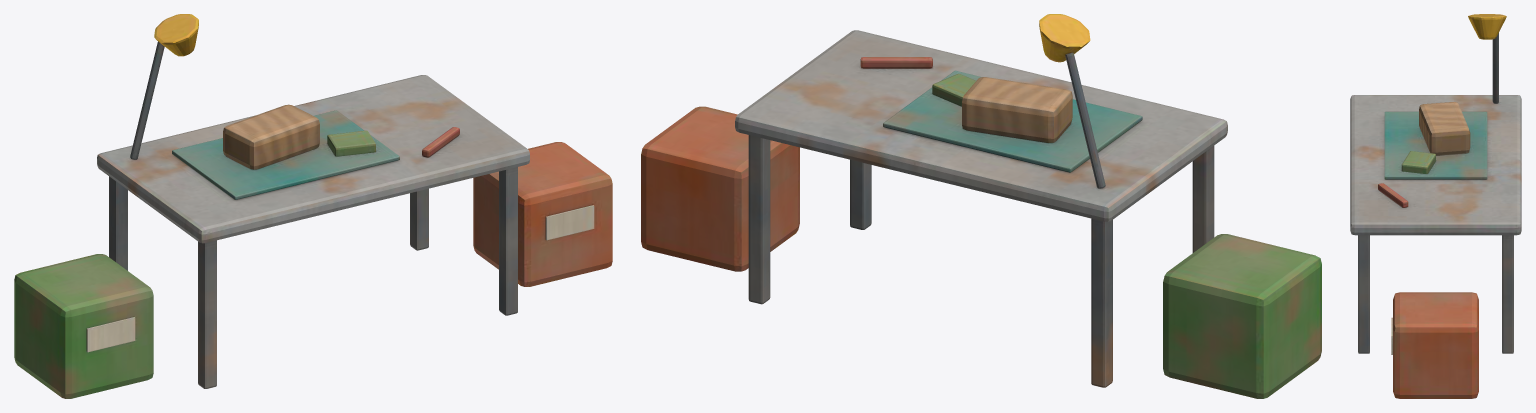
Rendered from dismantle_table.glb.
3 renders of one model, left to right at view 1: azimuth 30°, elevation 25°; view 2: azimuth 150°, elevation 25°; view 3: azimuth 270°, elevation 25°, orthographic. The views are drawn at different scales.
Visible parts, largest first — view 1: DismantleTable_Mesh; view 2: DismantleTable_Mesh; view 3: DismantleTable_Mesh.
Part boxes in pixels (x1,y1,x2,y2): DismantleTable_Mesh: (14,14,612,398); DismantleTable_Mesh: (641,14,1321,398); DismantleTable_Mesh: (1350,14,1521,398).
Size of the model in its own units: 3 by 1.55 by 1.
Materials: 1 (1 with a texture image).
